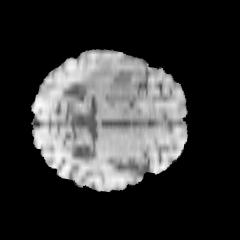glioma: (77, 56, 145, 104)
